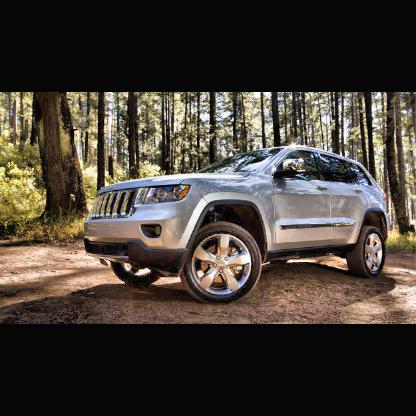Jeep Grand Cherokee SUV 2012: (85, 146, 392, 309)
